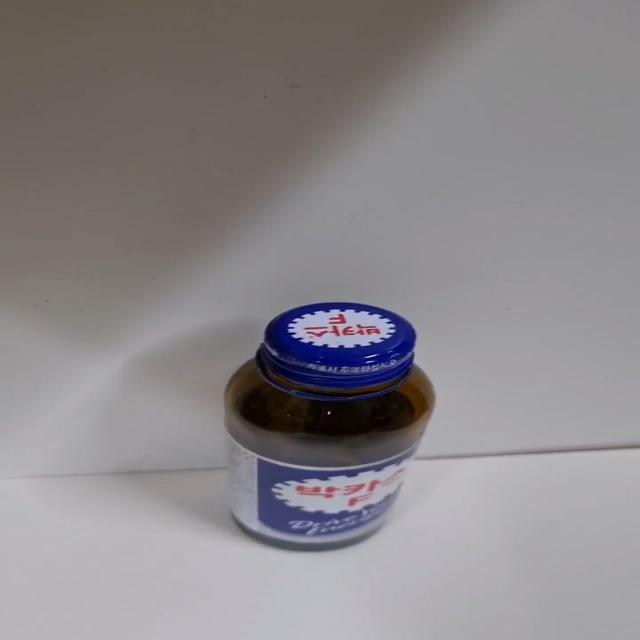Glass: (221, 302, 437, 554)
